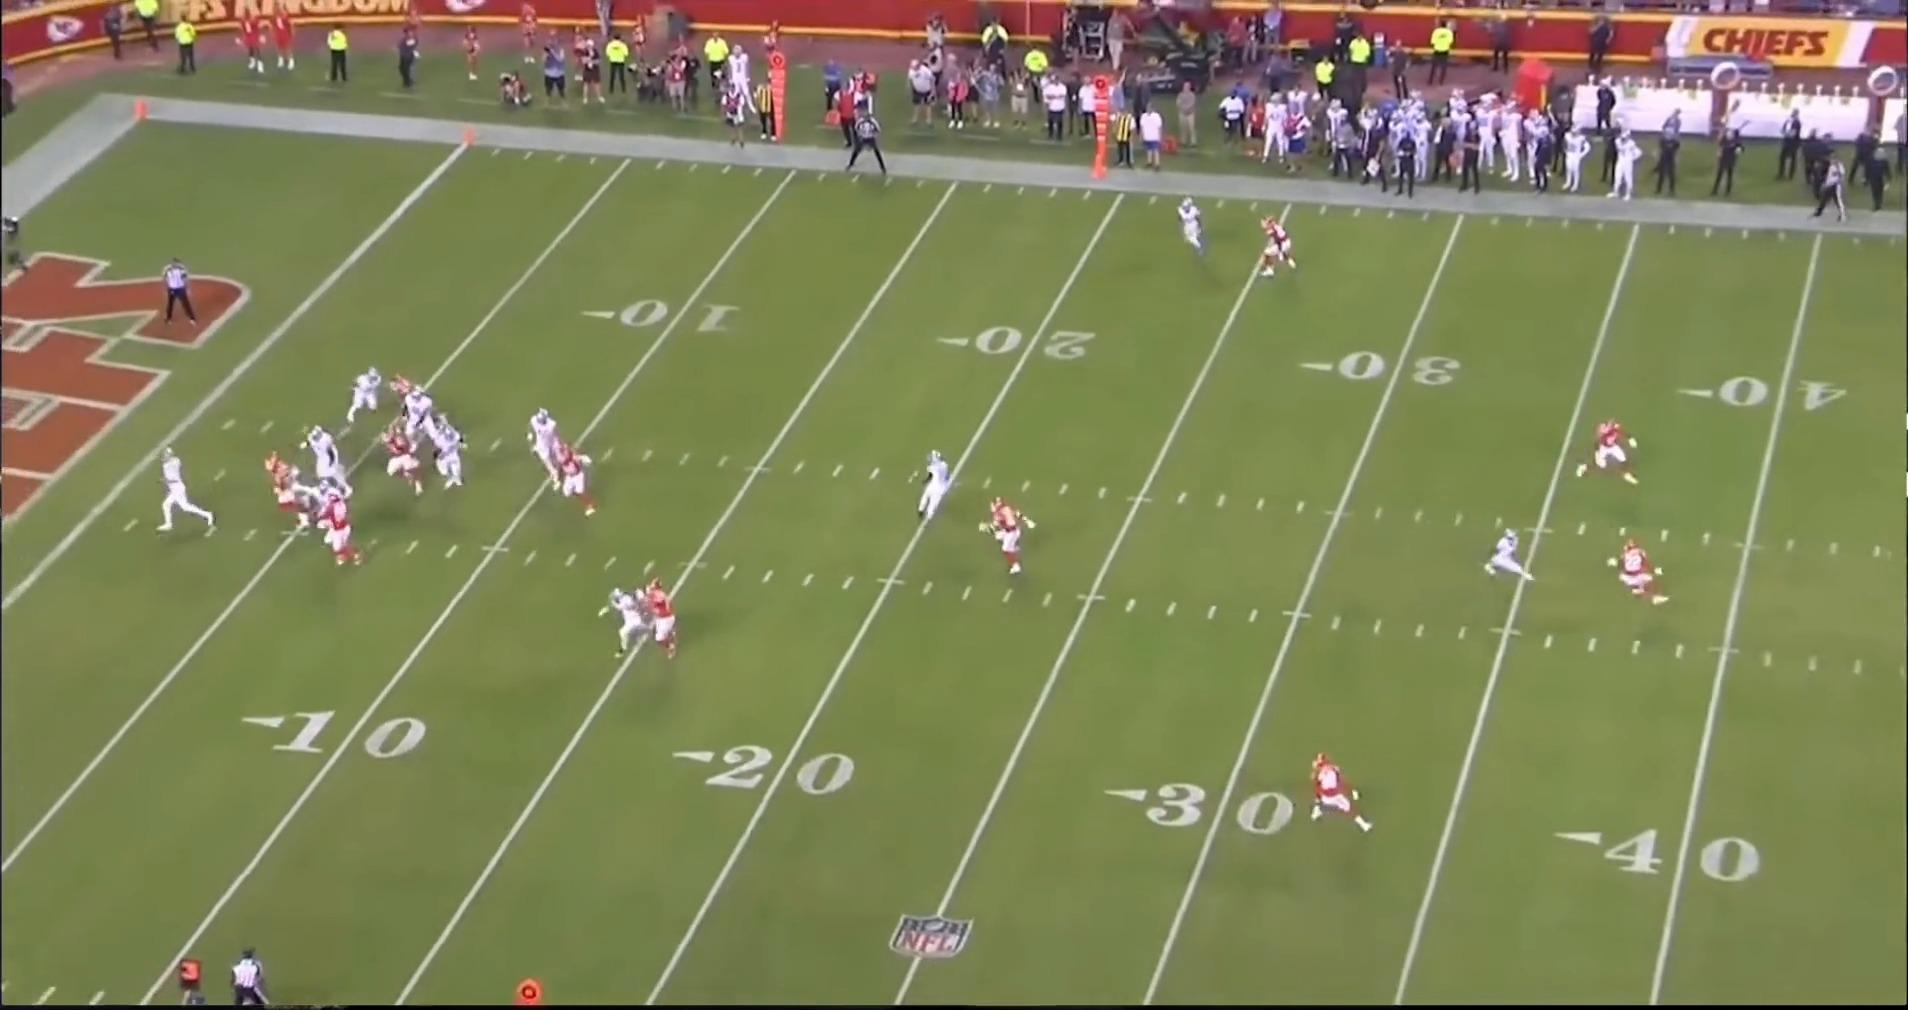player: (1306, 753, 1380, 840), (154, 449, 224, 538), (1569, 417, 1641, 489), (1608, 539, 1667, 610), (990, 500, 1038, 583), (260, 451, 310, 530), (319, 490, 364, 573), (526, 406, 571, 486), (604, 584, 654, 655), (642, 582, 685, 663), (337, 364, 388, 432), (1480, 528, 1533, 591), (555, 444, 598, 521), (428, 420, 470, 498), (302, 422, 348, 493), (911, 446, 953, 523), (1257, 212, 1301, 283), (381, 424, 420, 499), (1174, 195, 1210, 264), (402, 387, 433, 453), (307, 481, 341, 501), (388, 373, 414, 399)
ref: (1810, 153, 1854, 228), (222, 948, 273, 1010), (163, 258, 206, 330), (842, 112, 888, 178)
